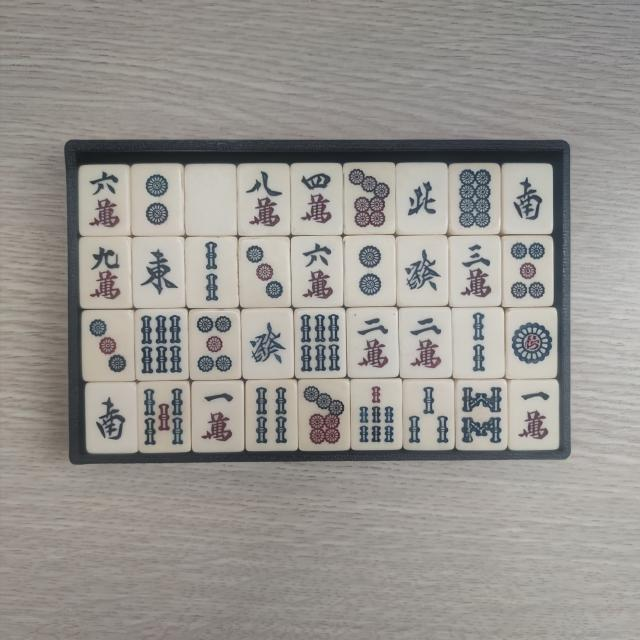hdg: (247, 314, 290, 376), (402, 240, 444, 302)
hdw: (190, 168, 233, 229)
hwe: (136, 243, 180, 304)
hwn: (402, 169, 442, 230)
hws: (90, 389, 132, 449), (508, 168, 548, 228)
sb2: (190, 239, 234, 305), (456, 310, 500, 375)
sb3: (407, 385, 450, 448)
sb4: (251, 384, 293, 448)
sb5: (141, 388, 186, 450)
sb6: (138, 314, 186, 378), (298, 314, 343, 376)
sb7: (356, 383, 399, 447)
sb8: (459, 384, 502, 448)
sc1: (197, 386, 239, 447), (514, 385, 554, 446)
sc2: (404, 313, 448, 375), (351, 313, 393, 375)
sc3: (456, 240, 498, 304)
sc4: (297, 168, 339, 231)
sc6: (296, 239, 338, 303), (84, 168, 124, 230)
sc8: (244, 168, 288, 232)
sc9: (86, 243, 128, 306)
sd1: (510, 314, 555, 376)
sd2: (348, 239, 390, 302), (136, 168, 177, 230)
sd3: (244, 243, 288, 306), (86, 316, 130, 378)
sd5: (194, 314, 236, 378), (508, 240, 550, 304)
sd7: (346, 165, 392, 230), (302, 385, 346, 449)
sd8: (454, 167, 496, 230)
